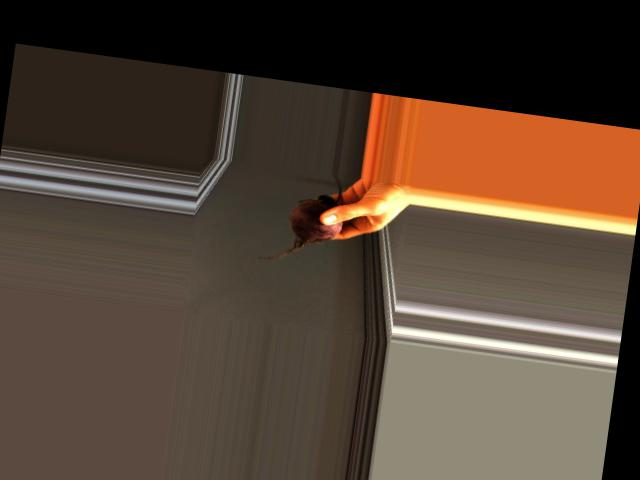beet: (257, 164, 348, 269)
